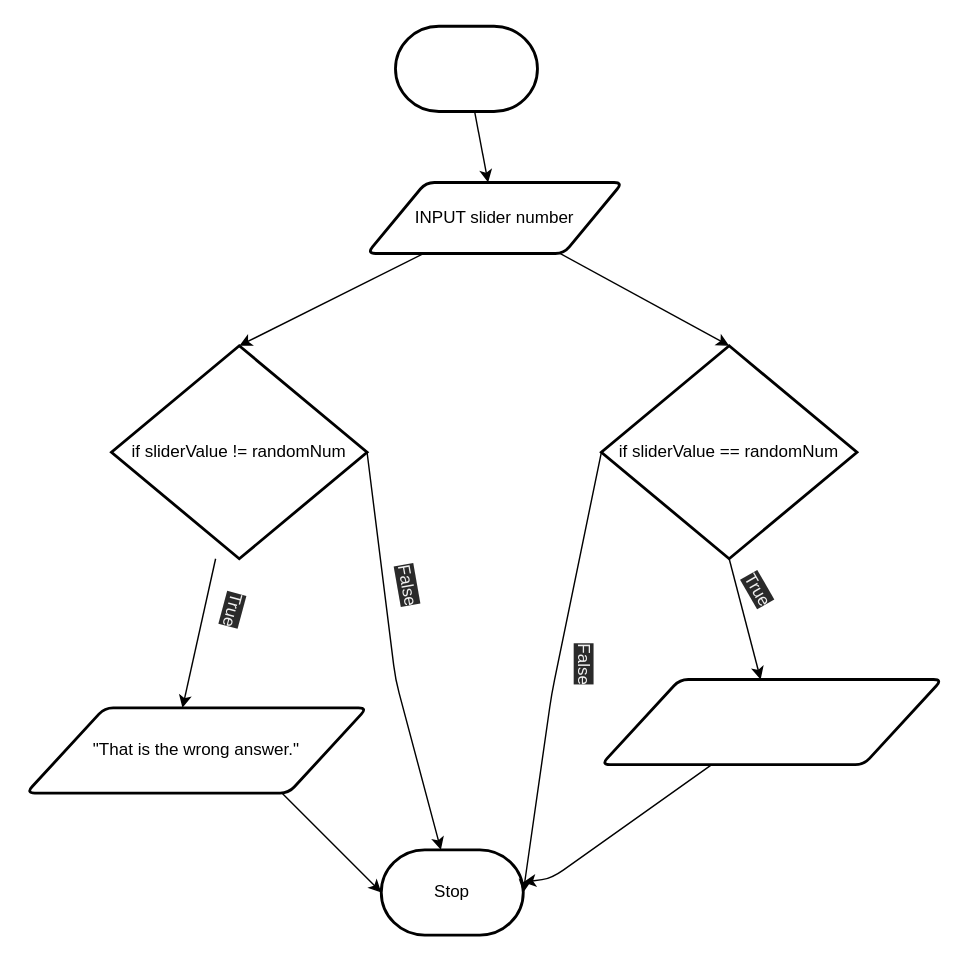
The diagram is 967 pixels wide and 960 high, and some of its shapes have lost their labels. Here are the shapes that lost their labels. From the top down, the centre of each, then its label:
point 465,68: Start
point 771,721: "That is the correct answer."
